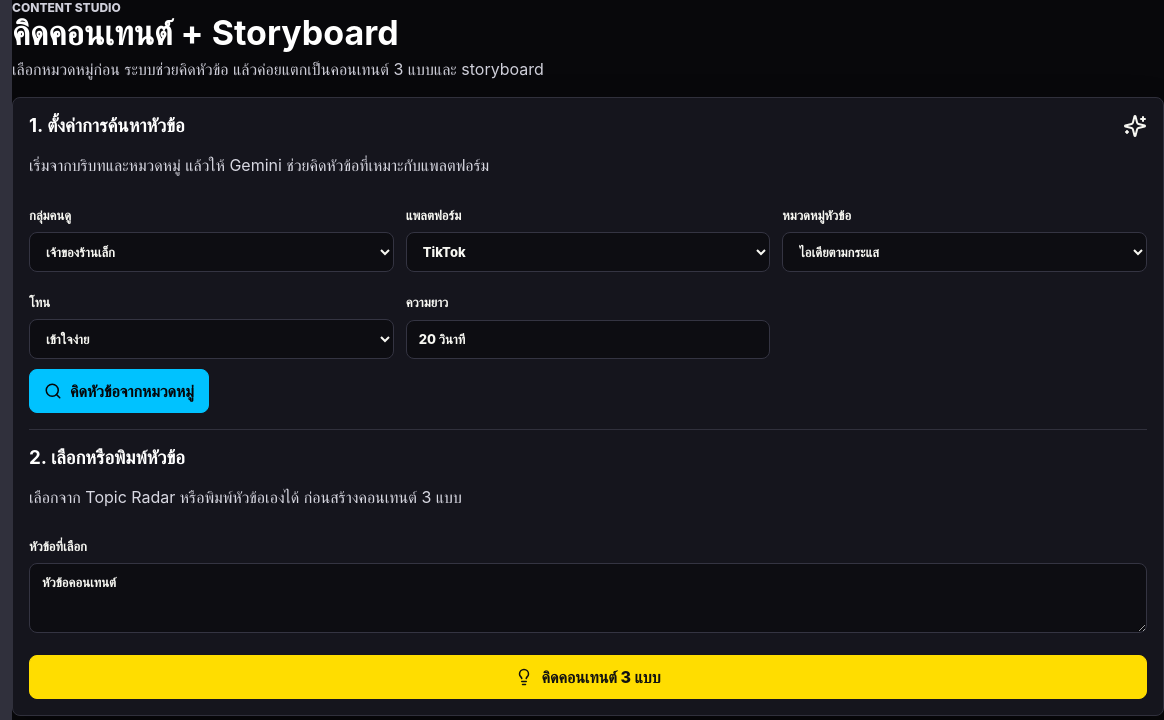
ContentStudio › lets the user generate category topics and choose one as the editable selected topic
The width and height of the screenshot is (1164, 720).
Select "แม่ค้าออนไลน์" in the dropdown labelled "กลุ่มคนดู": (211, 252) [29,232,394,272]
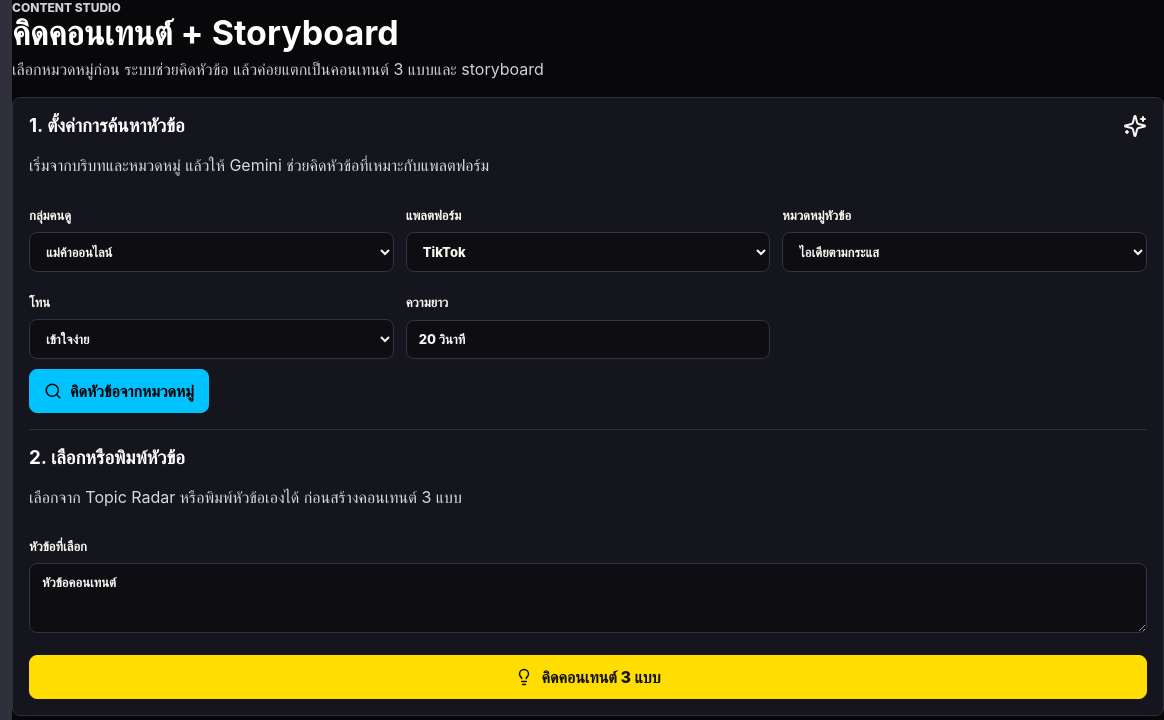
Select "Facebook Reels" in the dropdown labelled "แพลตฟอร์ม": (588, 252) [406,232,770,272]
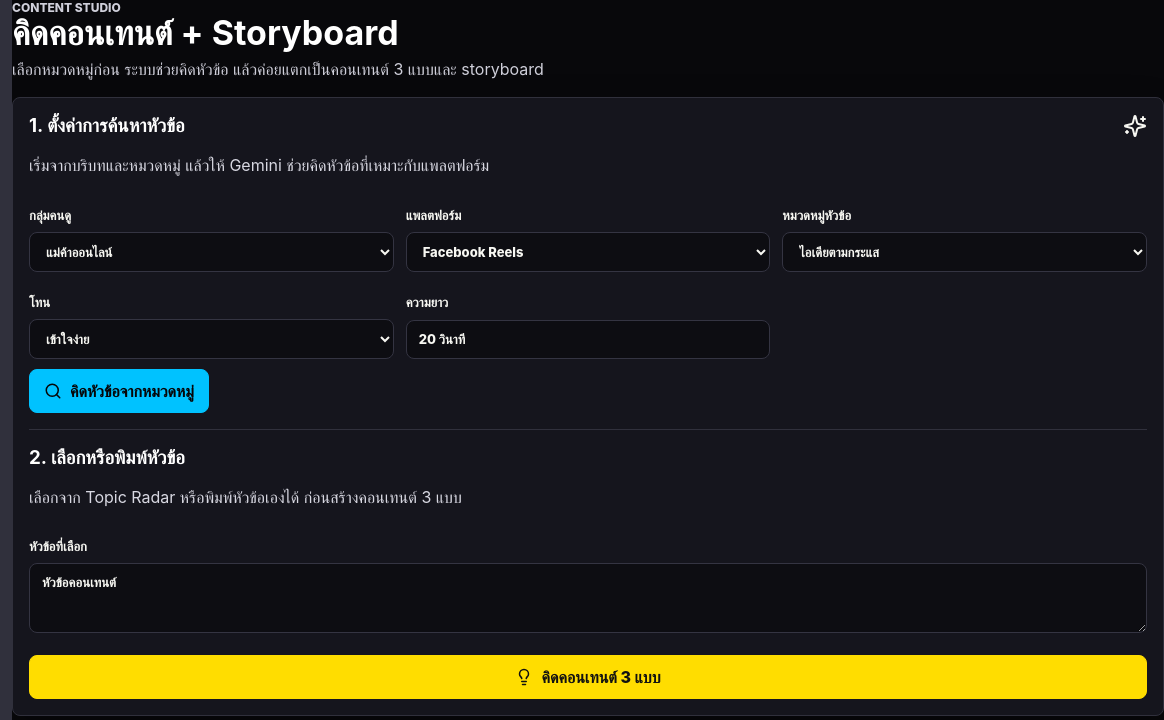
Click the button "คิดหัวข้อจากหมวดหมู่": click(119, 392) [29,370,209,414]
(page scrolled)
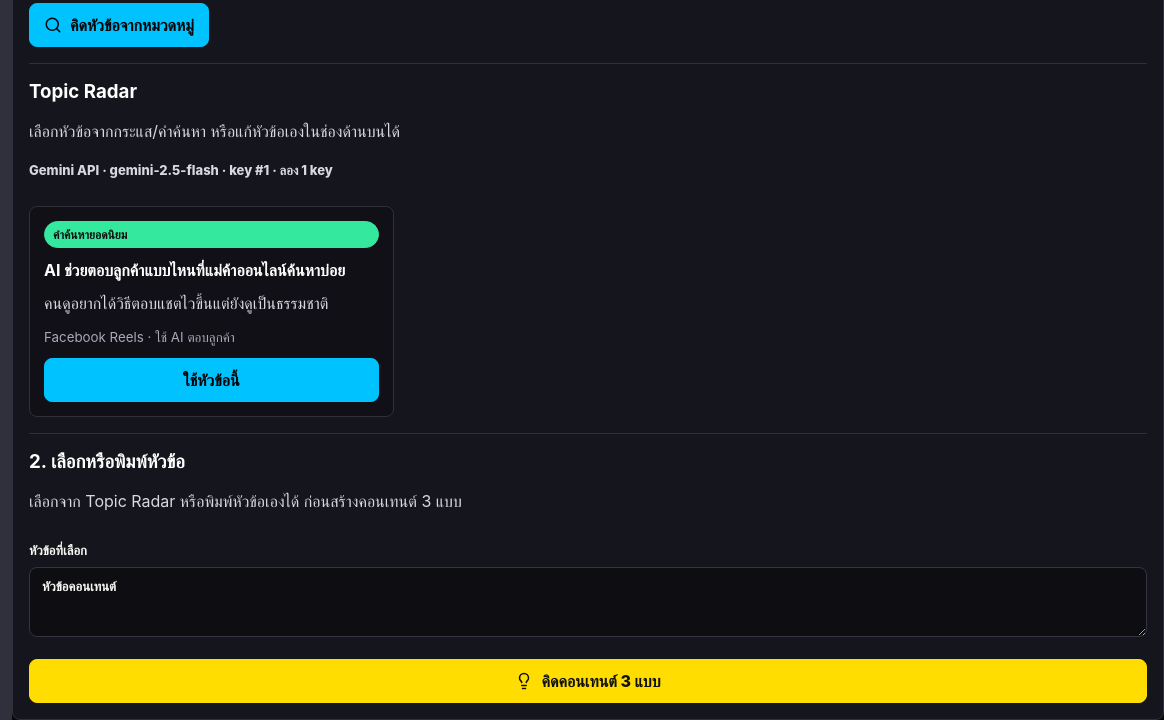
Result: the heading "AI ช่วยตอบลูกค้าแบบไหนที่แม่ค้าออนไลน์ค้นหาบ่อย" is shown at [44,260,379,280]
Result: the text "คำค้นหายอดนิยม" is shown at [44,221,379,248]
Click the button "ใช้หัวข้อนี้": click(211, 380) [44,358,379,402]
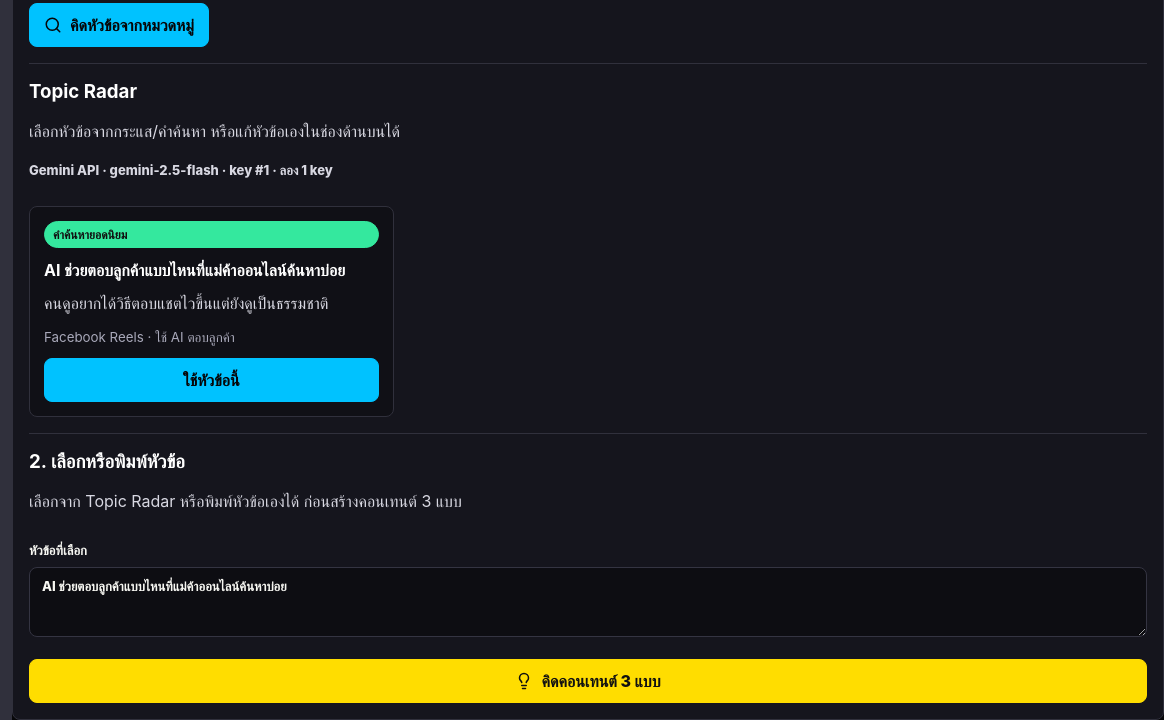
Result: the text box labelled "หัวข้อที่เลือก" holds "AI ช่วยตอบลูกค้าแบบไหนที่แม่ค้าออนไลน์ค้นหาบ่อย" at [29,567,1147,637]
